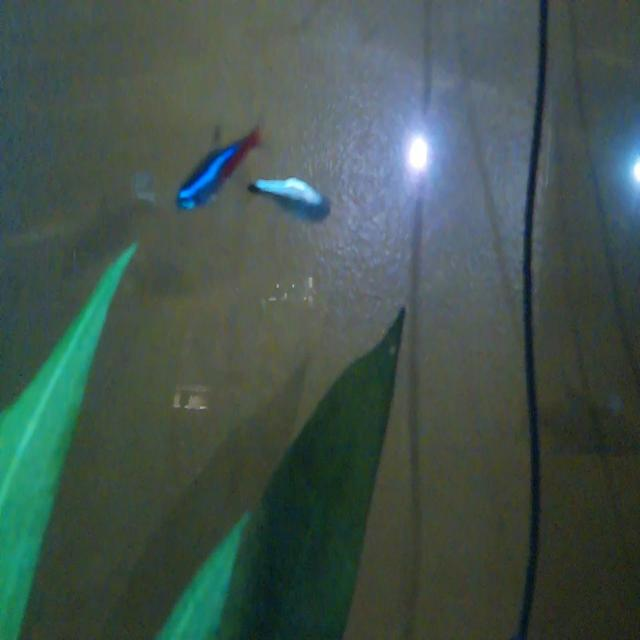fish: (167, 115, 260, 232), (247, 168, 337, 242)
